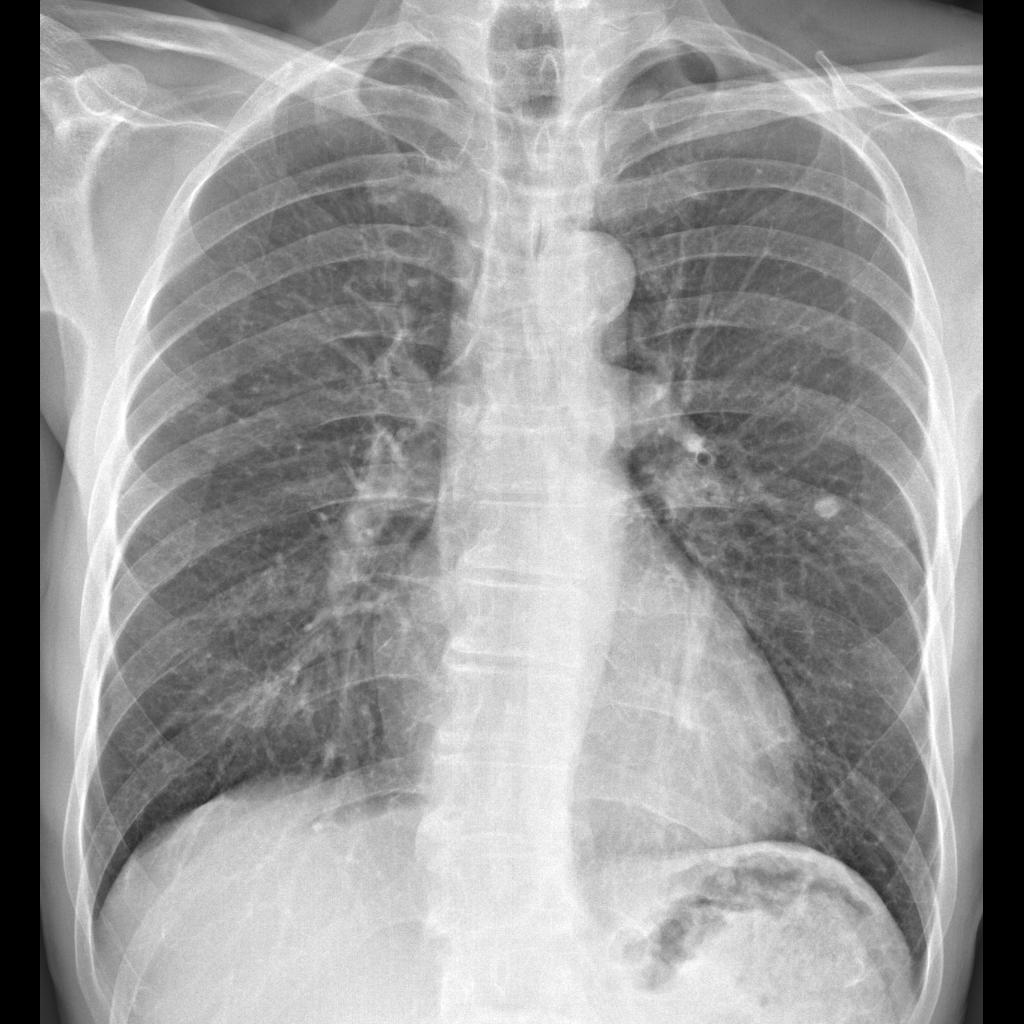Nodule: (805, 483, 846, 531)
